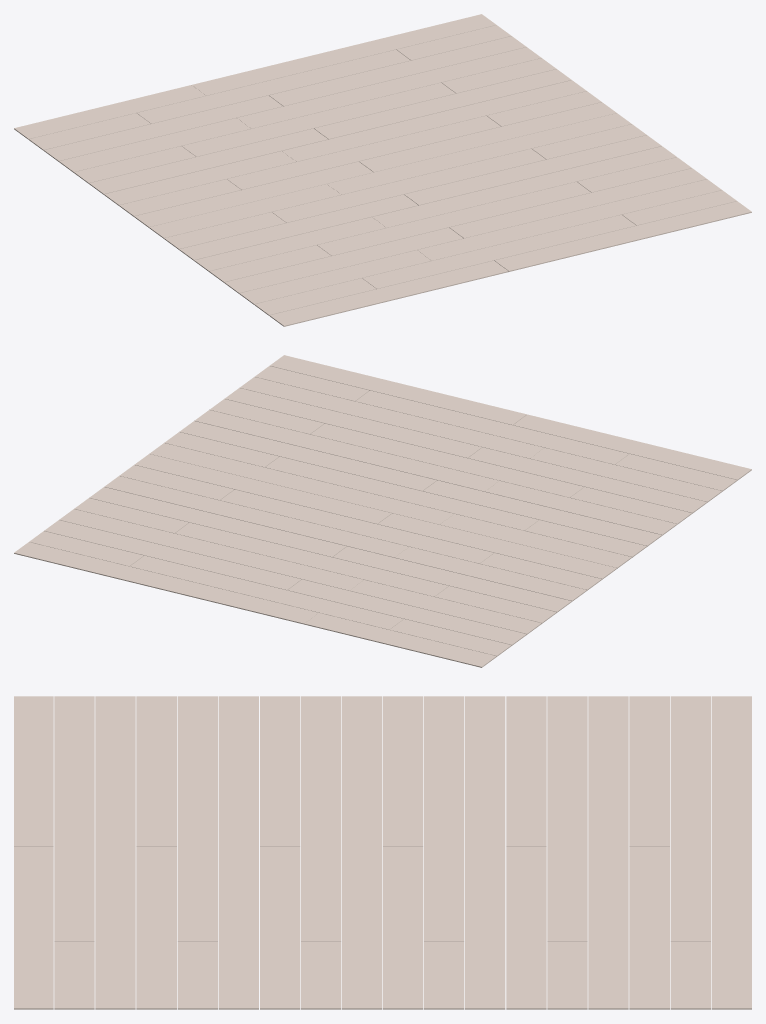
File: Parquet_6.fbx
3 renders of one model, top to bottom at view 1: azimuth 30°, elevation 25°; view 2: azimuth 150°, elevation 25°; view 3: azimuth 270°, elevation 25°, orthographic. The views are drawn at different scales.
Visible parts, largest first — view 1: Parquet_6; view 2: Parquet_6; view 3: Parquet_6.
Boxes of the visible parts, x1,y1,x2,y2 form: Parquet_6: [14, 14, 751, 326]; Parquet_6: [14, 355, 751, 667]; Parquet_6: [14, 696, 751, 1009].
Size of the model in its own units: 489 by 489 by 0.9576.
